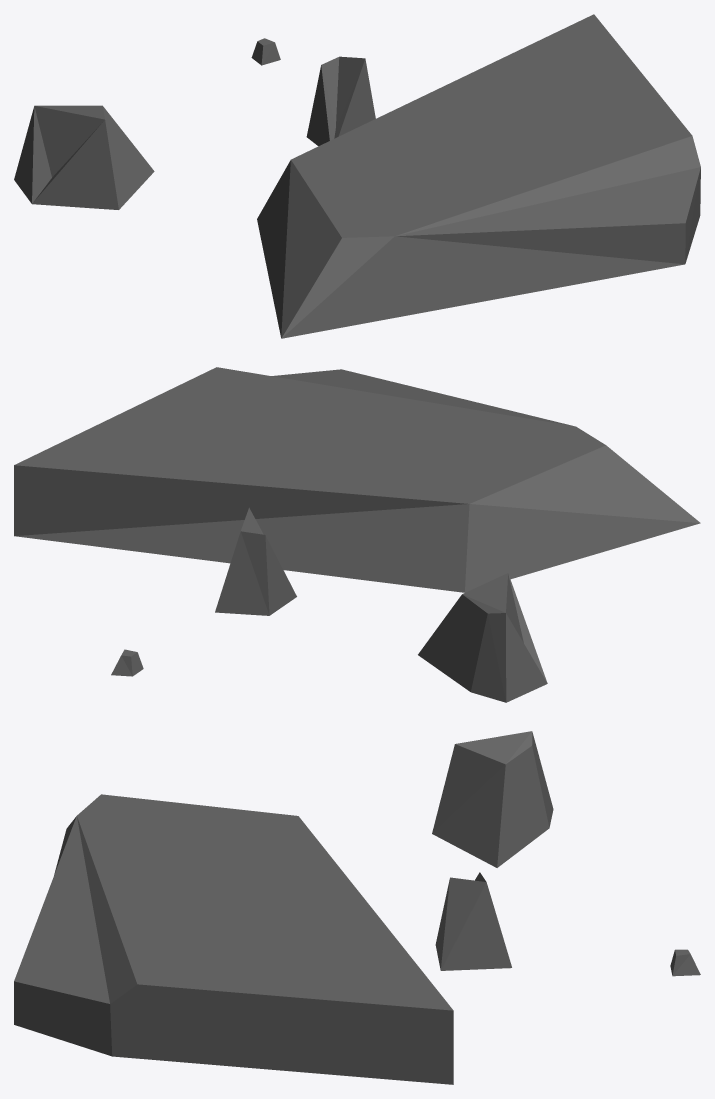
The model's file is Stone_Rail_13.FBX.
The picture shows the model from 3 angles, top to bottom: view 1: azimuth 30°, elevation 25°; view 2: azimuth 150°, elevation 25°; view 3: azimuth 270°, elevation 25°; orthographic projection. The views are drawn at different scales.
Visible parts, largest first — view 1: Stone_Rail_13; view 2: Stone_Rail_13; view 3: Stone_Rail_13.
Boxes of the visible parts, left/top/right/bottom form: Stone_Rail_13: left=14, top=14, right=700, bottom=338; Stone_Rail_13: left=14, top=367, right=700, bottom=702; Stone_Rail_13: left=14, top=731, right=700, bottom=1084.
Bounding box in the file's own units: 1.22 × 0.1784 × 1.26.
